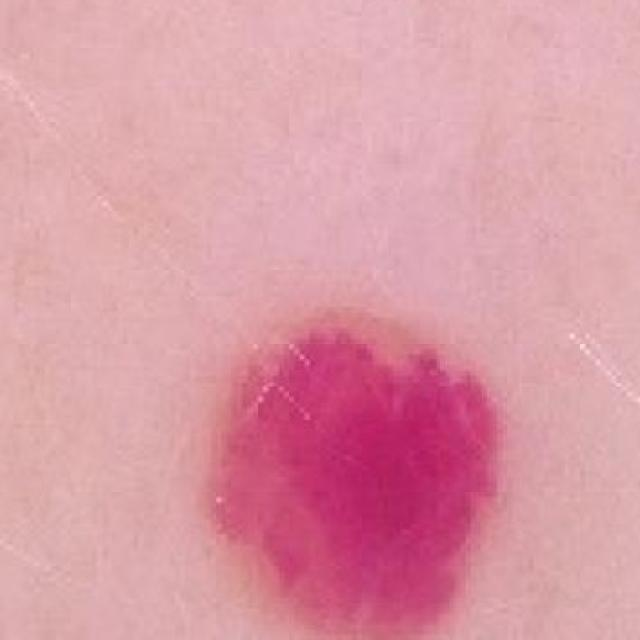VASC: (184, 266, 531, 640)
